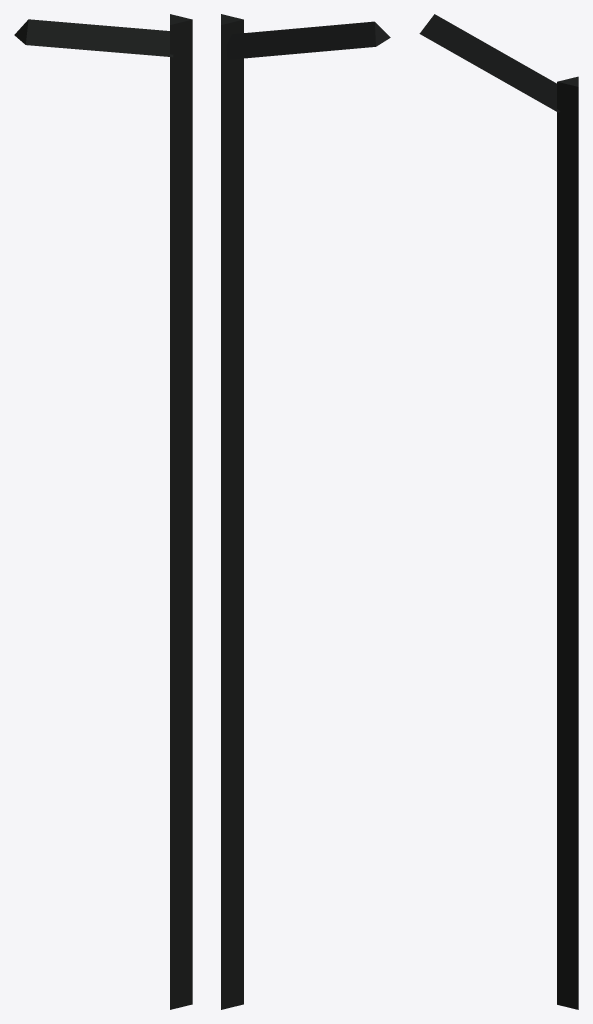
Rendered from AMB_LIGHT.glb.
3 renders of one model, left to right at view 1: azimuth 30°, elevation 25°; view 2: azimuth 150°, elevation 25°; view 3: azimuth 330°, elevation 25°, orthographic. The views are drawn at different scales.
Parts seen in each view (by area): view 1: OBJ; view 2: OBJ; view 3: OBJ.
Boxes of the visible parts, box(x1,y1,x2,y2) form: OBJ: box(14, 14, 192, 1009); OBJ: box(221, 14, 390, 1009); OBJ: box(419, 14, 578, 1009).
Size of the model in its own units: 6.39 by 36.99 by 0.9051.
Materials: 2 (2 with a texture image).
